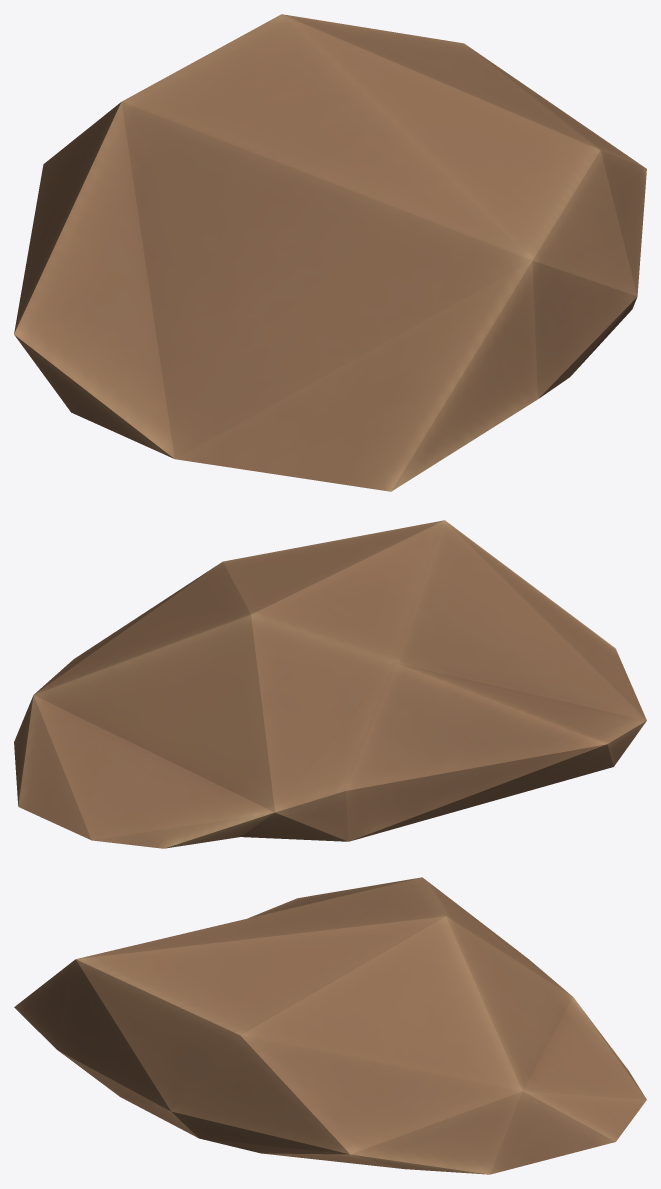
File: Rock_22.fbx
3 renders of one model, top to bottom at view 1: azimuth 30°, elevation 25°; view 2: azimuth 150°, elevation 25°; view 3: azimuth 270°, elevation 25°, orthographic. The views are drawn at different scales.
Visible parts, largest first — view 1: Rock_22; view 2: Rock_22; view 3: Rock_22.
Boxes of the visible parts, x1,y1,x2,y2 form: Rock_22: [14, 14, 646, 491]; Rock_22: [14, 520, 646, 848]; Rock_22: [14, 877, 646, 1174].
Size of the model in its own units: 46.78 by 52.47 by 14.41.
Materials: 1 (1 with a texture image).
